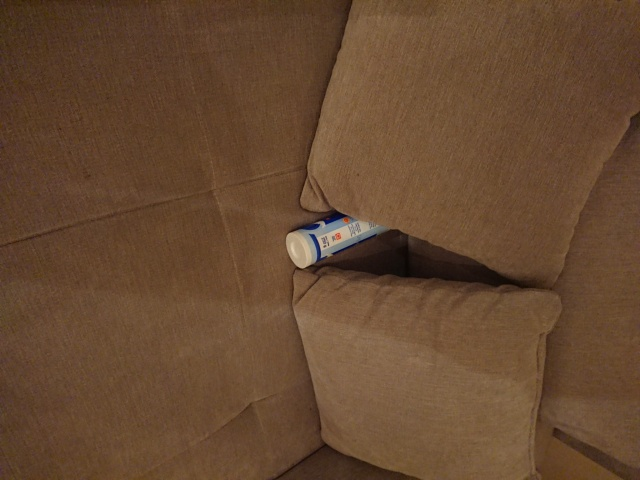Solana Pag Fine Sea Salt 250g: (283, 199, 409, 271)
